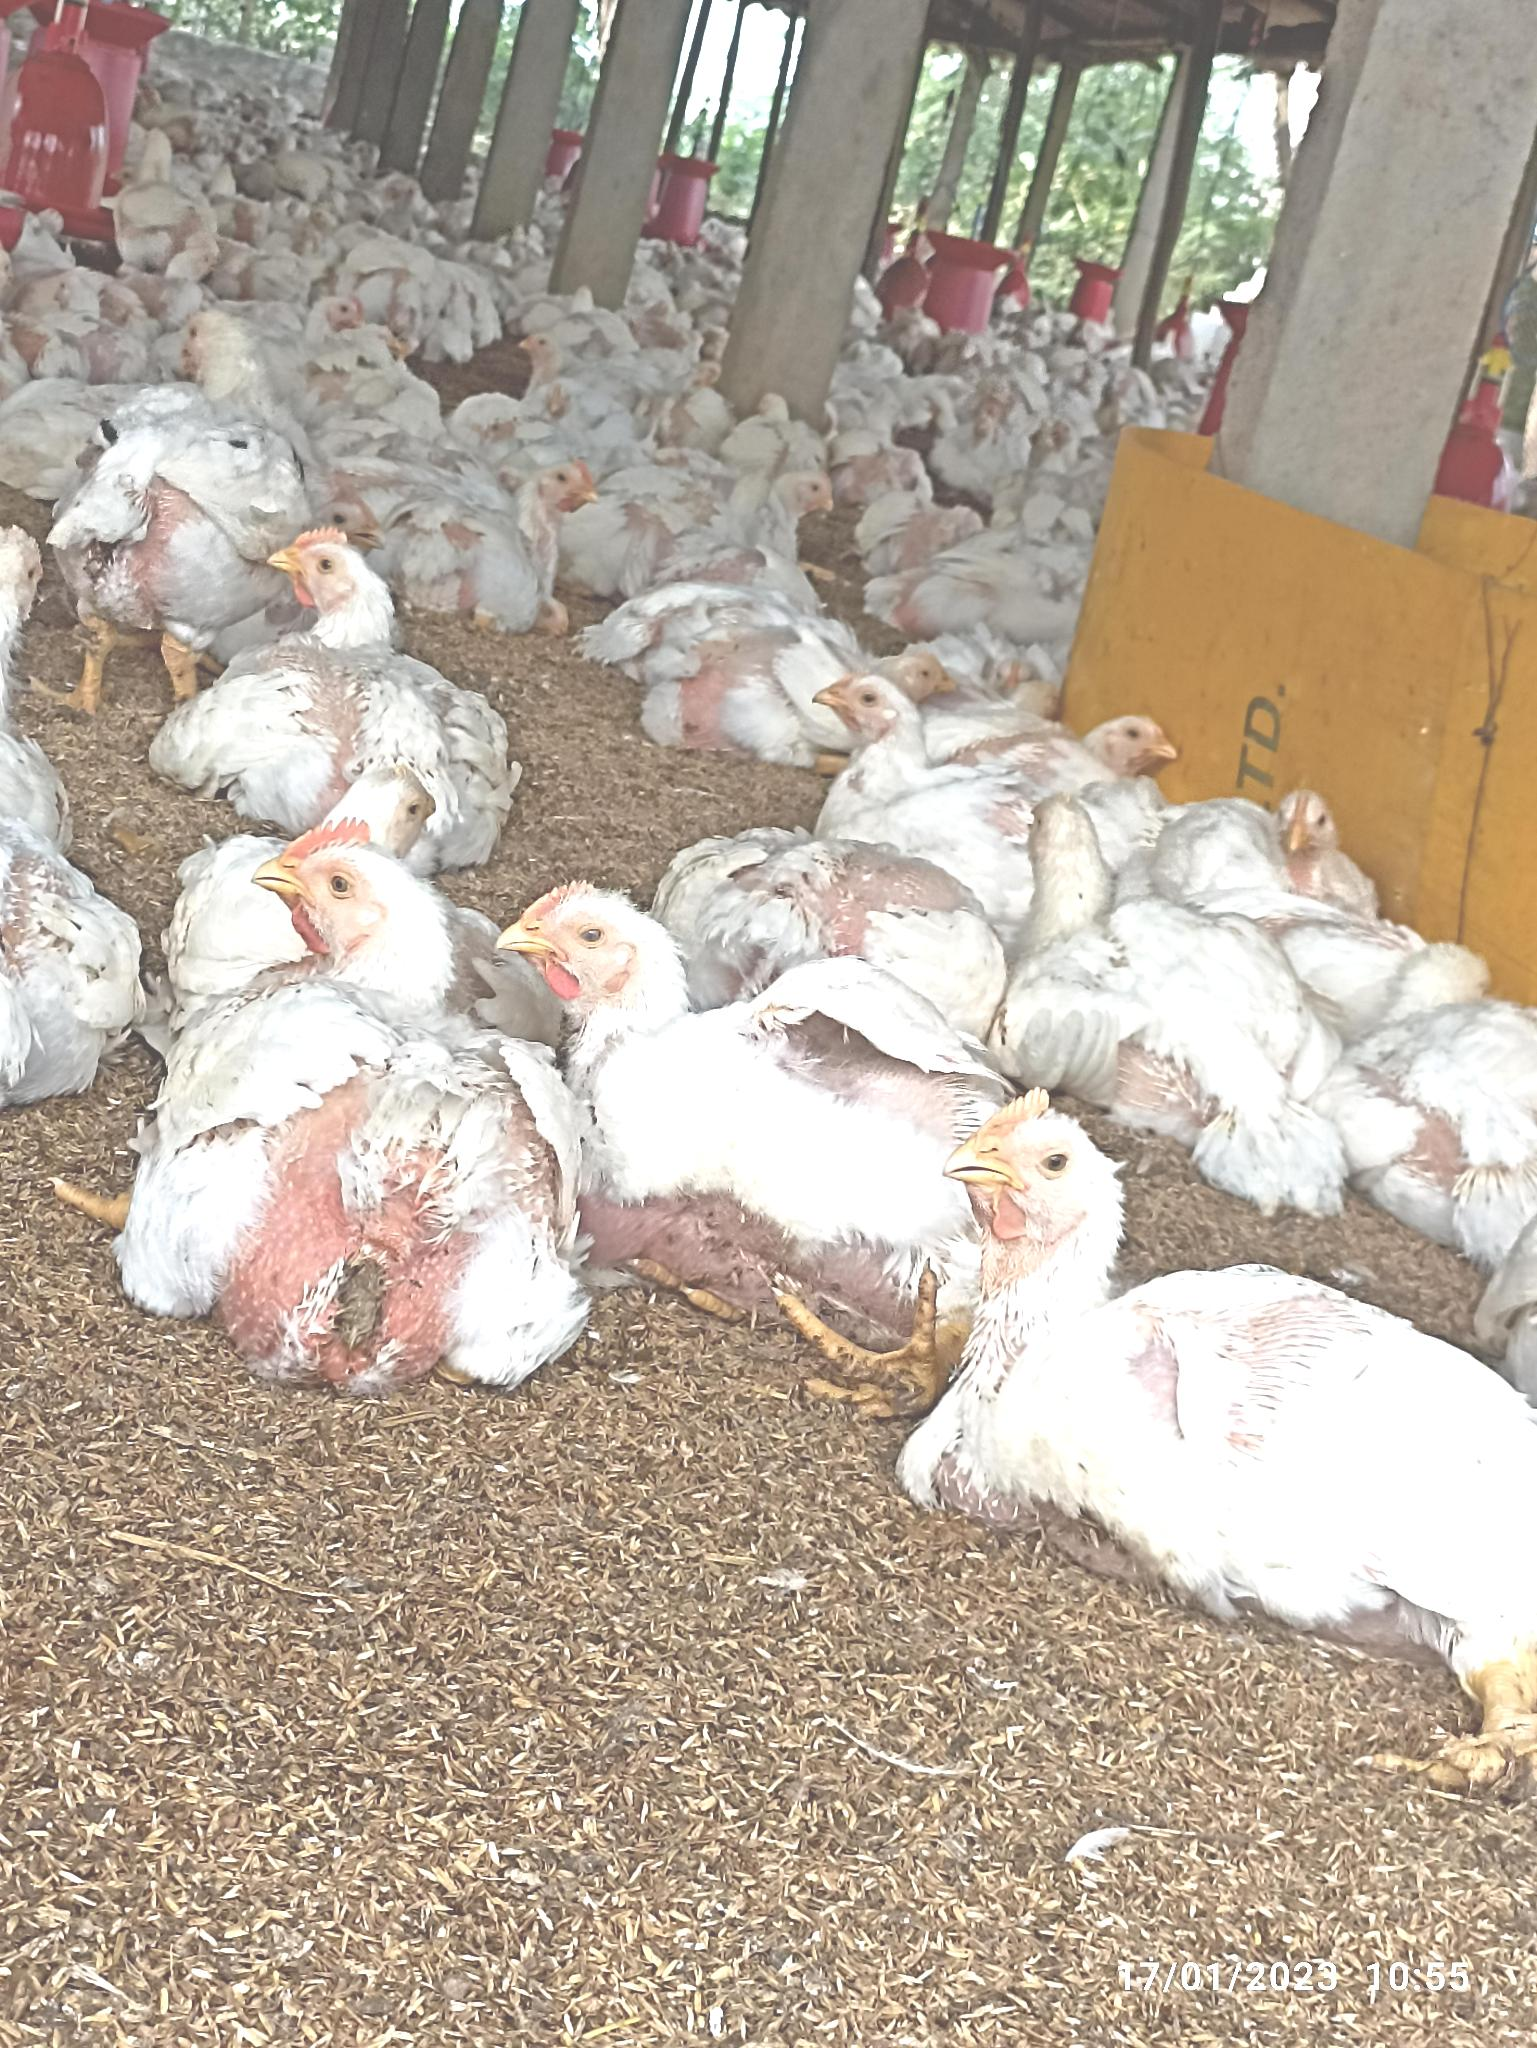Pollos: (956, 1085, 1537, 1648), (497, 878, 969, 1343), (173, 841, 588, 1369), (1020, 794, 1371, 1138), (194, 523, 507, 783), (82, 315, 300, 579), (809, 675, 1012, 857), (394, 457, 601, 605), (615, 473, 841, 589), (652, 620, 827, 755), (965, 702, 1175, 791), (517, 328, 646, 400)
